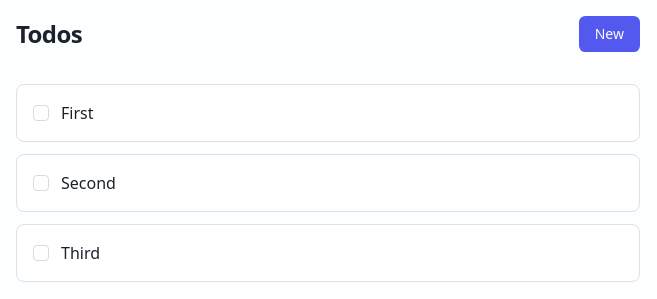
toggling completion from the card › keeps a completed card in its place in the list
Click the checkbox named "Mark \"First\" as done" at [41, 113], box [33, 105, 49, 121]
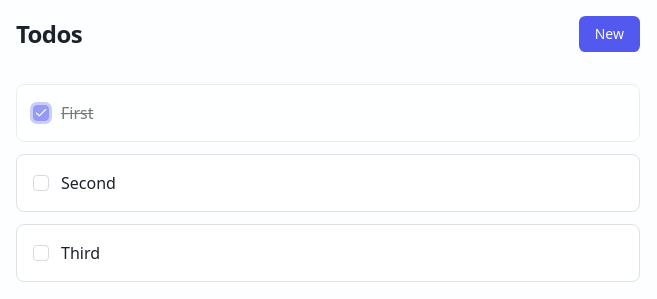
Expected: the headings read "First", "Second", "Third", in this order, [61, 101, 94, 125]; [61, 171, 116, 195]; [61, 241, 100, 265]
Now the checkbox named "Mark \"First\" as not done" is shown, box [33, 105, 49, 121]
